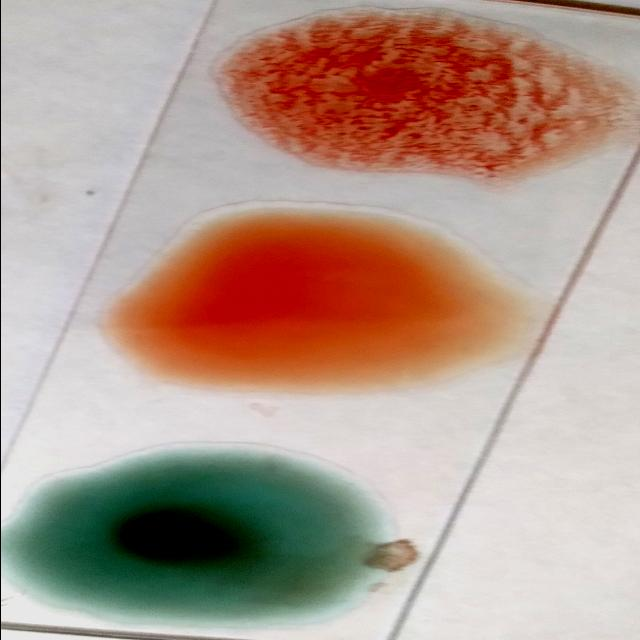D: (214, 20, 610, 158)
